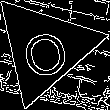O_N: (17, 19, 72, 78)
